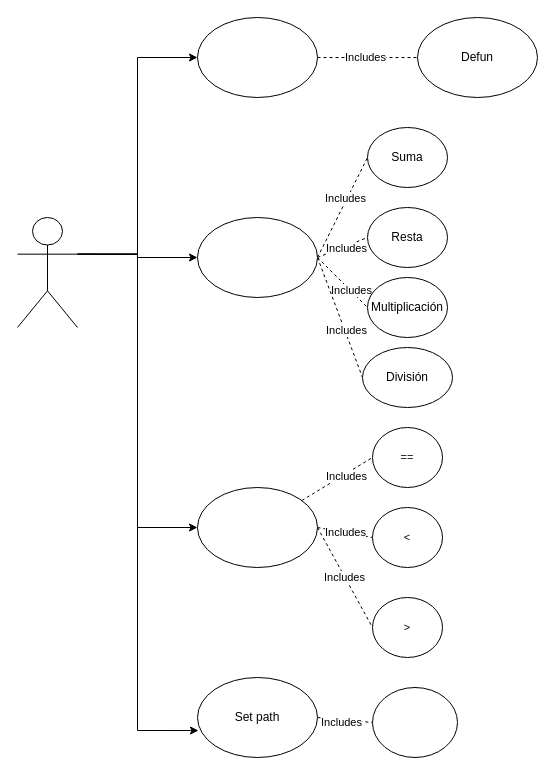
This 555x775 diagram has some shape labels left out. Here are the shapes that lost their labels. From the top down, the centre of each, then its label:
At point (257, 57): "Definir función".
At point (47, 272): "Actor".
At point (257, 257): "Operación aritmética".
At point (257, 527): "Evaluación condicional".
At point (415, 722): "Leer Archivo".
